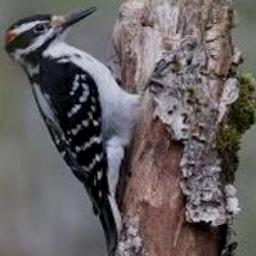Woodpecker: (5, 6, 143, 256)
